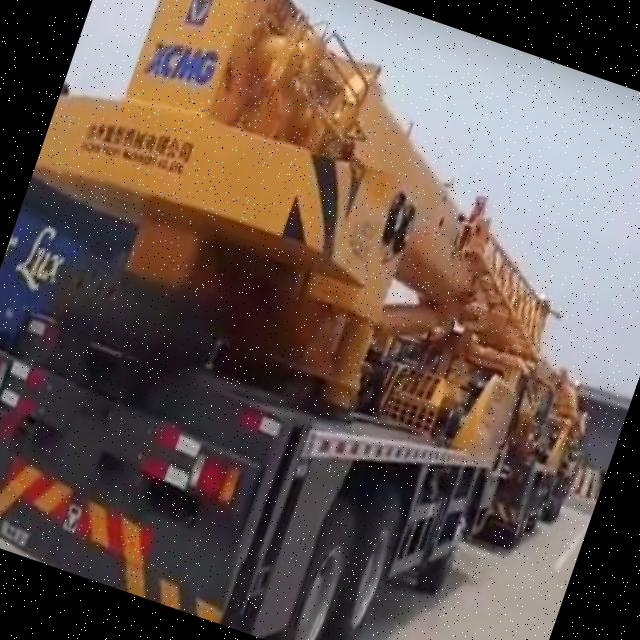Mobile Crane: (0, 0, 628, 640)
